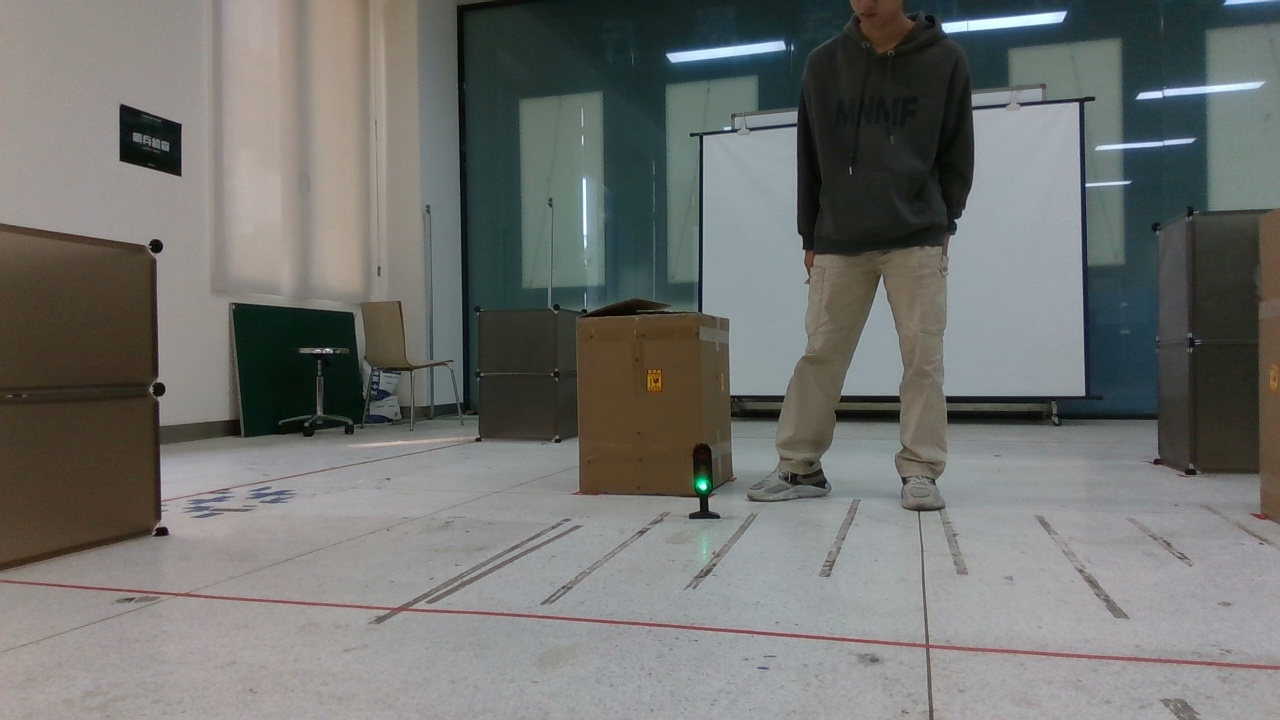green_light: (682, 438, 736, 528)
